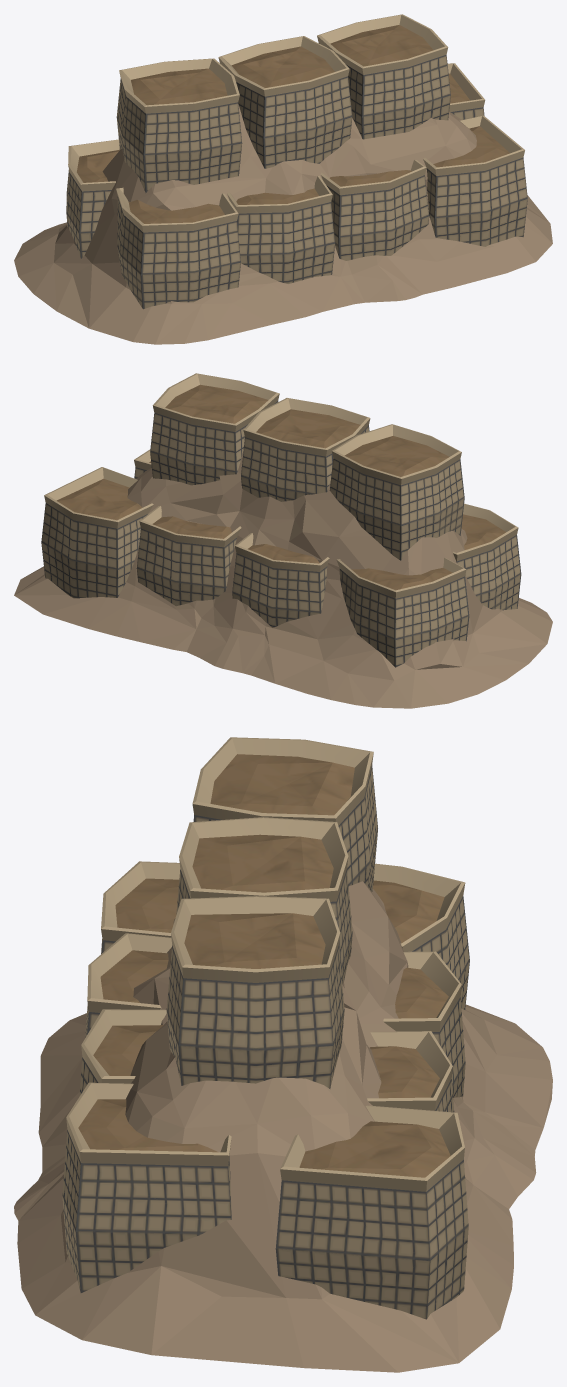
File: SM_Prop_Barrier_Base_Group_02.glb
3 renders of one model, top to bottom at view 1: azimuth 30°, elevation 25°; view 2: azimuth 150°, elevation 25°; view 3: azimuth 270°, elevation 25°, orthographic. The views are drawn at different scales.
Parts seen in each view (by area): view 1: SM_Prop_Barrier_Base_Group_02; view 2: SM_Prop_Barrier_Base_Group_02; view 3: SM_Prop_Barrier_Base_Group_02.
Part boxes in pixels (bbox=[...]): SM_Prop_Barrier_Base_Group_02: bbox=[14, 14, 552, 344]; SM_Prop_Barrier_Base_Group_02: bbox=[14, 373, 552, 708]; SM_Prop_Barrier_Base_Group_02: bbox=[14, 737, 552, 1372].
Bounding box in the file's own units: 5.8 × 2.22 × 3.44.
1 material, 1 textured.
